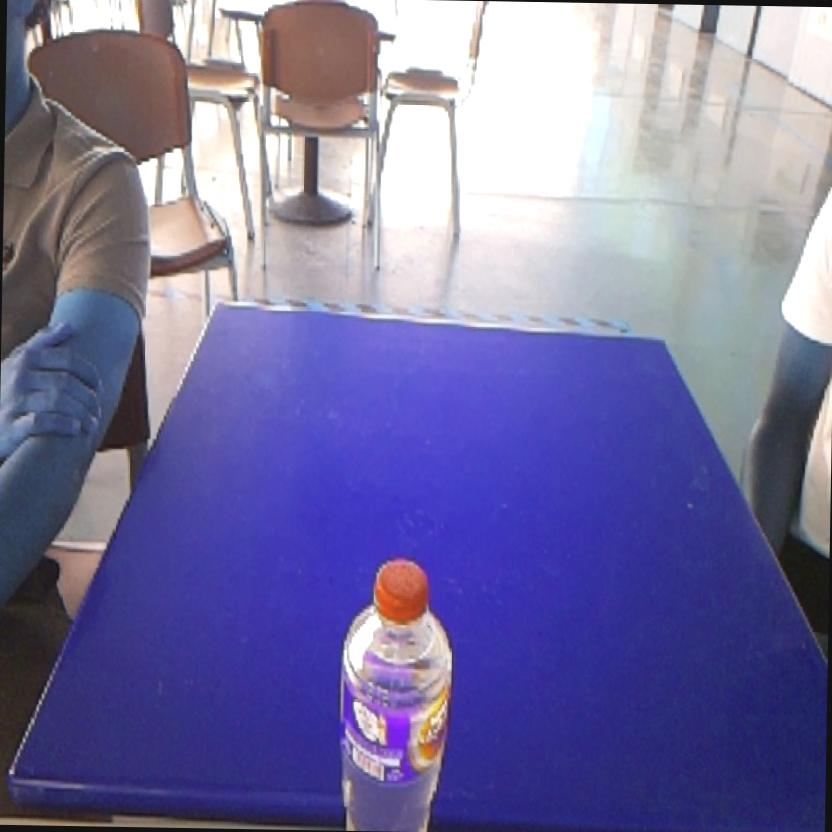good: (319, 534, 463, 832)
